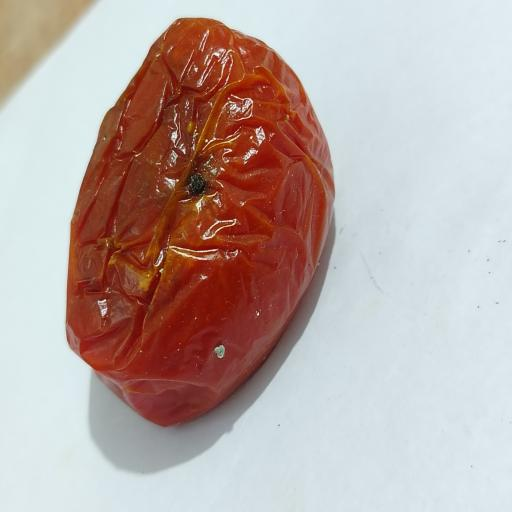spoiled: (66, 18, 334, 425)
